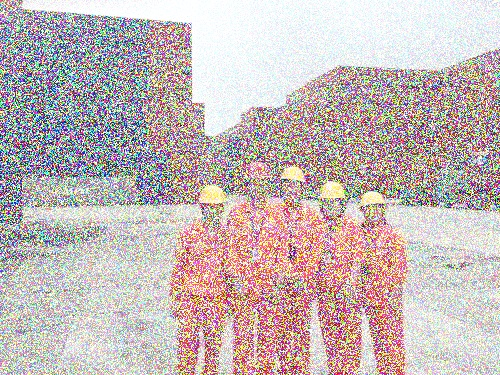helmet: (241, 159, 273, 204), (198, 183, 227, 226), (279, 163, 308, 203), (358, 189, 388, 226), (318, 180, 346, 218)
vest: (226, 200, 288, 292), (168, 221, 227, 298), (360, 224, 410, 307), (315, 212, 366, 293), (275, 201, 323, 284)
